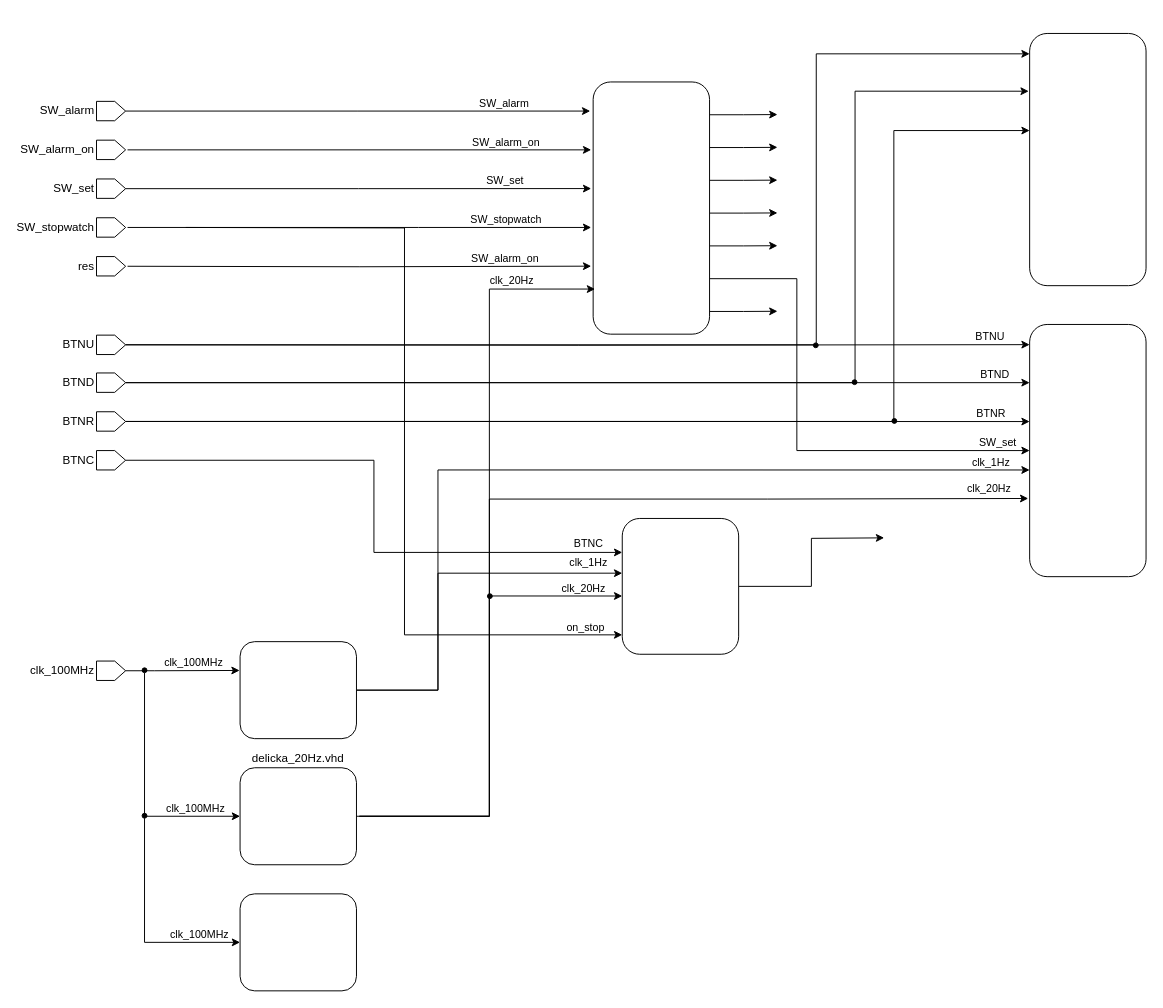
Image size: 1163x1008. Some labels were removed from this diagram. The shapes that lost their labels are listed below. From the top down, each one's box as (x1, y1, x2, y2) in pixels, then its label:
(1029, 32, 1146, 286): stopwatch_top.vhd
(592, 81, 710, 334): selector.vhd
(1029, 323, 1146, 577): hodiny_top.vhd
(621, 517, 739, 654): stopwtach_controller.vhd
(239, 641, 356, 739): delicka_1Hz.vhd
(239, 893, 356, 991): delicka_1000Hz.vhd
